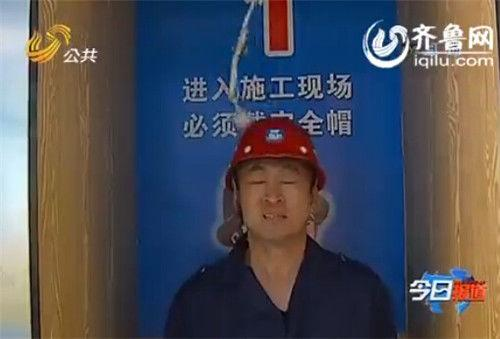helmet: (222, 118, 333, 218)
